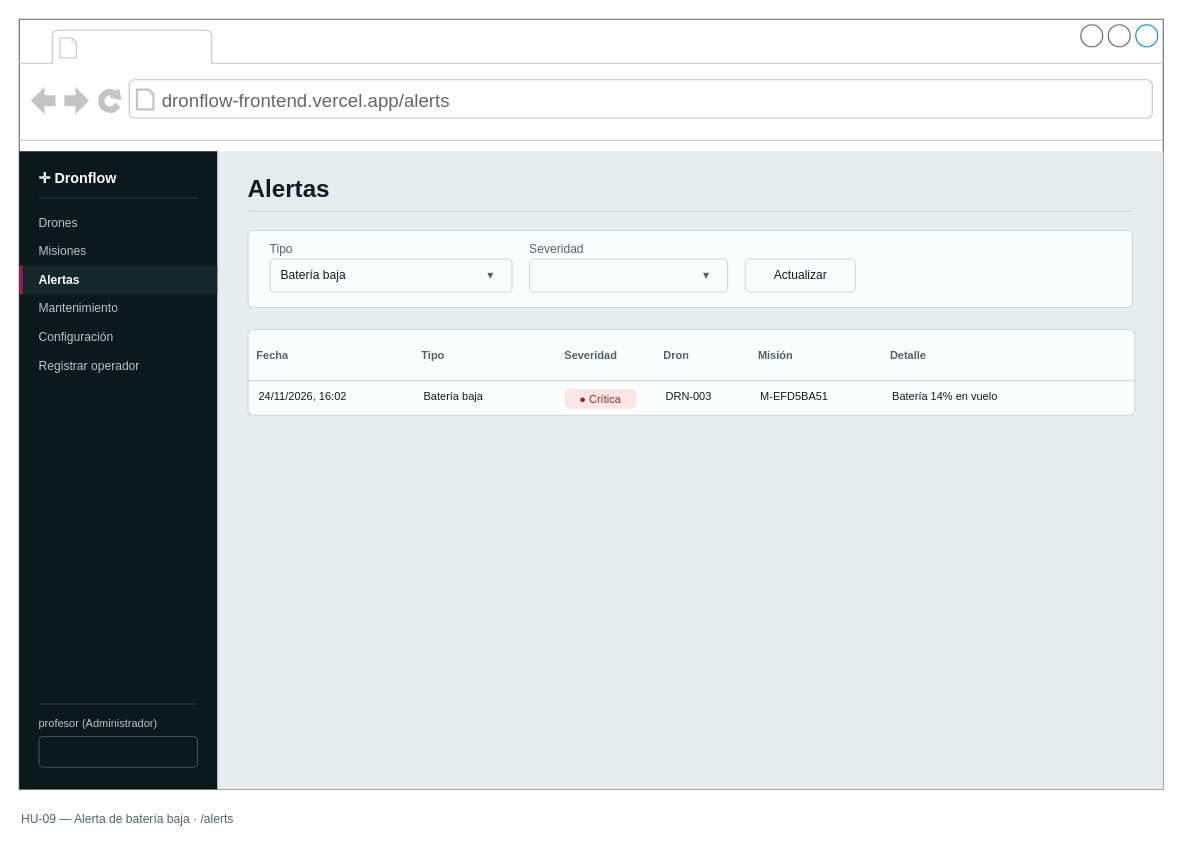
The diagram is 1183 pixels wide and 868 high, and some of its shapes have lost their labels. The box of each missing label's shape, as (x1, y1, x2, y2) in pixels:
Cerrar sesión: (38, 735, 197, 767)
Todas: (529, 258, 728, 292)
